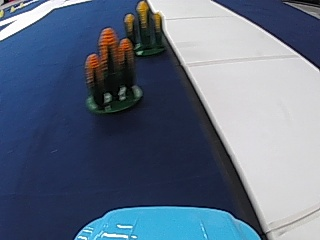corn: (83, 24, 140, 115), (127, 1, 166, 56)
